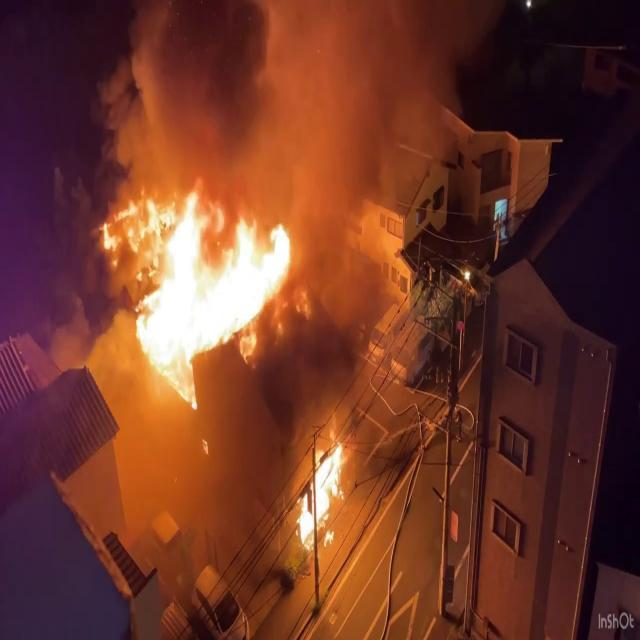Fire: (111, 171, 305, 395), (290, 429, 352, 552)
Smoke: (124, 0, 478, 197)
